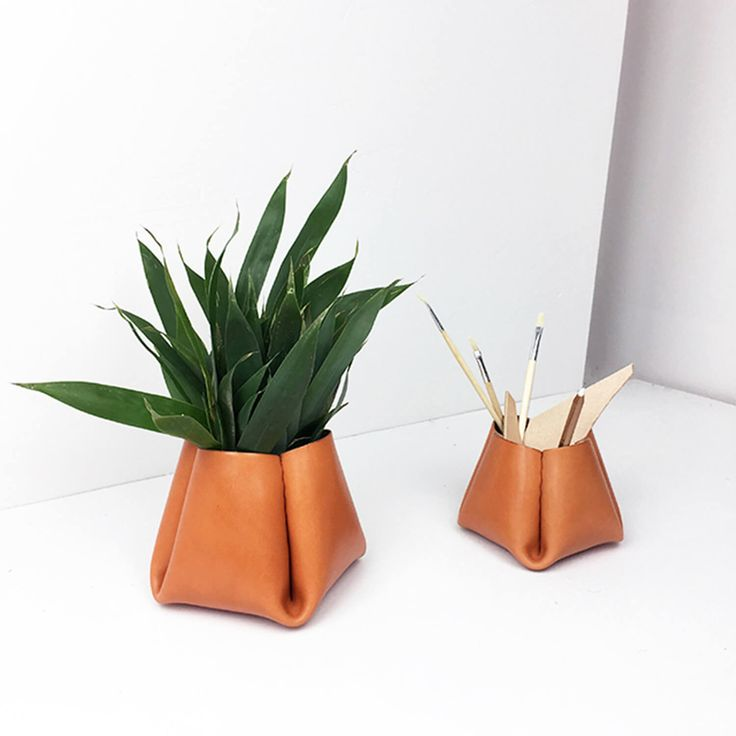cuero: (149, 413, 626, 632)
